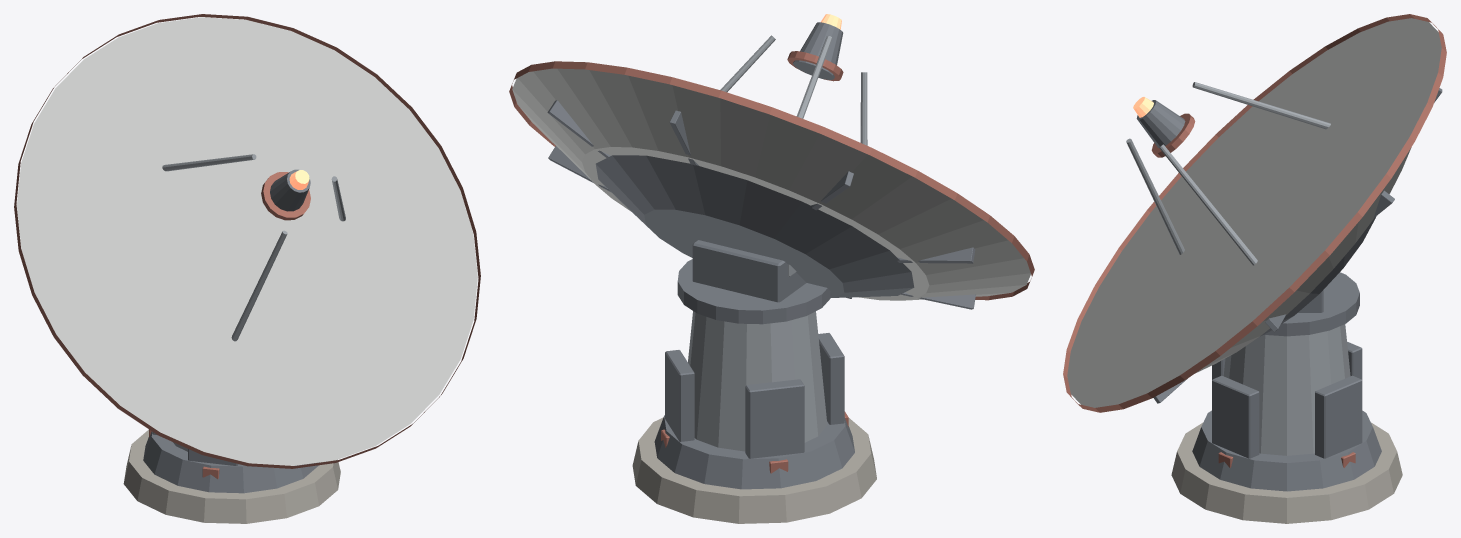
File: oil_satdish.glb
The picture shows the model from 3 angles, left to right: view 1: azimuth 30°, elevation 25°; view 2: azimuth 150°, elevation 25°; view 3: azimuth 270°, elevation 25°; orthographic projection. The views are drawn at different scales.
Parts seen in each view (by area): view 1: DishOuter, PedConc, DishTrim, PedBase, FeedHorn, FeedRing, Strut_2, Strut_1; view 2: DishOuter, DishBack, PedTower, PedConc, PedBase, DishTrim, Turntable, Buttress_1, YokeBase, Buttress_0, Buttress_2, FeedHorn (+3 smaller); view 3: DishOuter, PedTower, PedConc, DishTrim, PedBase, Buttress_0, Buttress_3, Turntable, FeedHorn, Strut_0, Strut_1, Strut_2 (+3 smaller).
Part boxes in pixels (x1,y1,x2,y2): DishOuter: (17,17,477,465); PedConc: (123,429,340,523); DishTrim: (14,14,480,468); PedBase: (143,431,319,493); FeedHorn: (270,169,310,211); FeedRing: (261,172,310,220); Strut_2: (231,230,287,341); Strut_1: (162,154,256,171); DishOuter: (512,68,1030,300); DishBack: (595,155,914,297); PedTower: (688,311,827,451); PedConc: (632,417,876,523); PedBase: (654,415,854,489); DishTrim: (509,61,1034,300); Turntable: (677,259,831,324); Buttress_1: (745,379,804,458); YokeBase: (692,240,806,302); Buttress_0: (665,350,694,441); Buttress_2: (818,333,844,424); FeedHorn: (793,22,843,79); DishOuter: (1067,18,1441,407); PedTower: (1223,324,1350,455); PedConc: (1171,422,1402,523); DishTrim: (1063,14,1446,412); PedBase: (1192,410,1381,491); Buttress_0: (1315,375,1362,458); Buttress_3: (1212,375,1259,458); Turntable: (1264,272,1359,336); FeedHorn: (1136,100,1185,147); Strut_0: (1159,144,1257,265); Strut_1: (1192,82,1330,129); Strut_2: (1126,138,1184,254).
Size of the model in its own units: 14 by 12.63 by 10.29.
